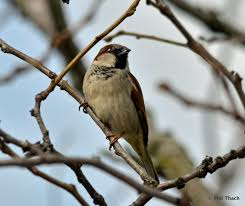hsparrow: (78, 43, 169, 190)
